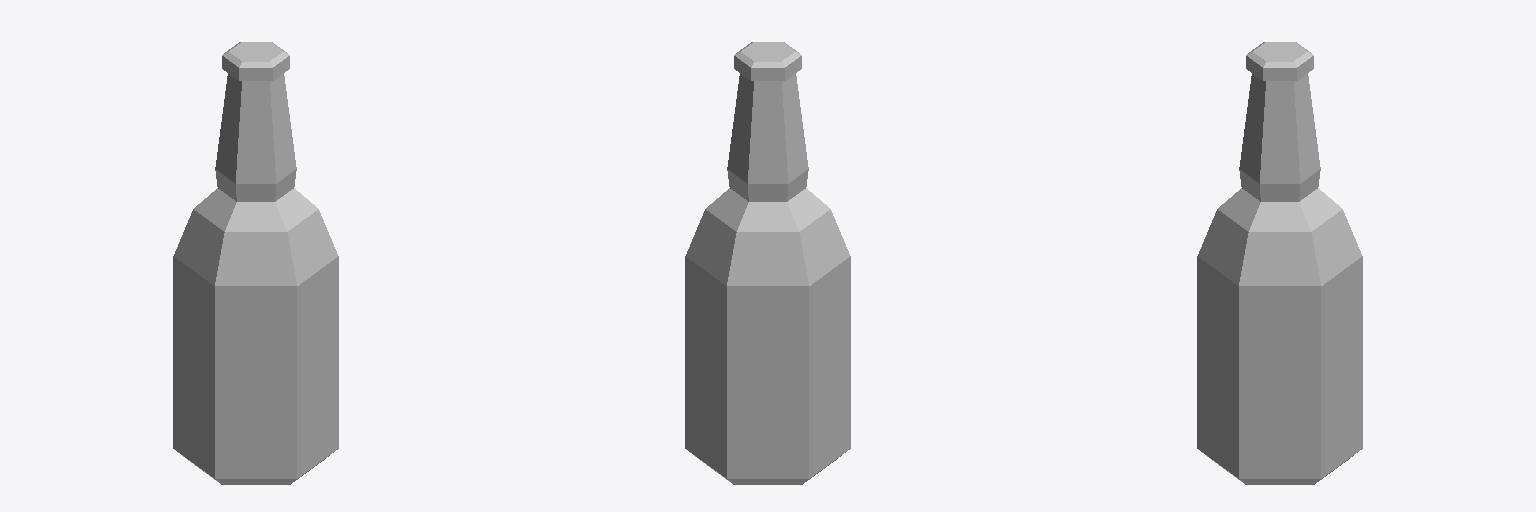
File: SpaceBeer 1.obj
3 renders of one model, left to right at view 1: azimuth 30°, elevation 25°; view 2: azimuth 150°, elevation 25°; view 3: azimuth 270°, elevation 25°, orthographic.
Visible parts, largest first — view 1: SPACEBEER.001_Cube.020; view 2: SPACEBEER.001_Cube.020; view 3: SPACEBEER.001_Cube.020.
Boxes of the visible parts, box(x1,y1,x2,y2) form: SPACEBEER.001_Cube.020: box(173, 42, 338, 484); SPACEBEER.001_Cube.020: box(685, 42, 850, 484); SPACEBEER.001_Cube.020: box(1197, 42, 1362, 484).
Size of the model in its own units: 0.1386 by 0.4371 by 0.16.